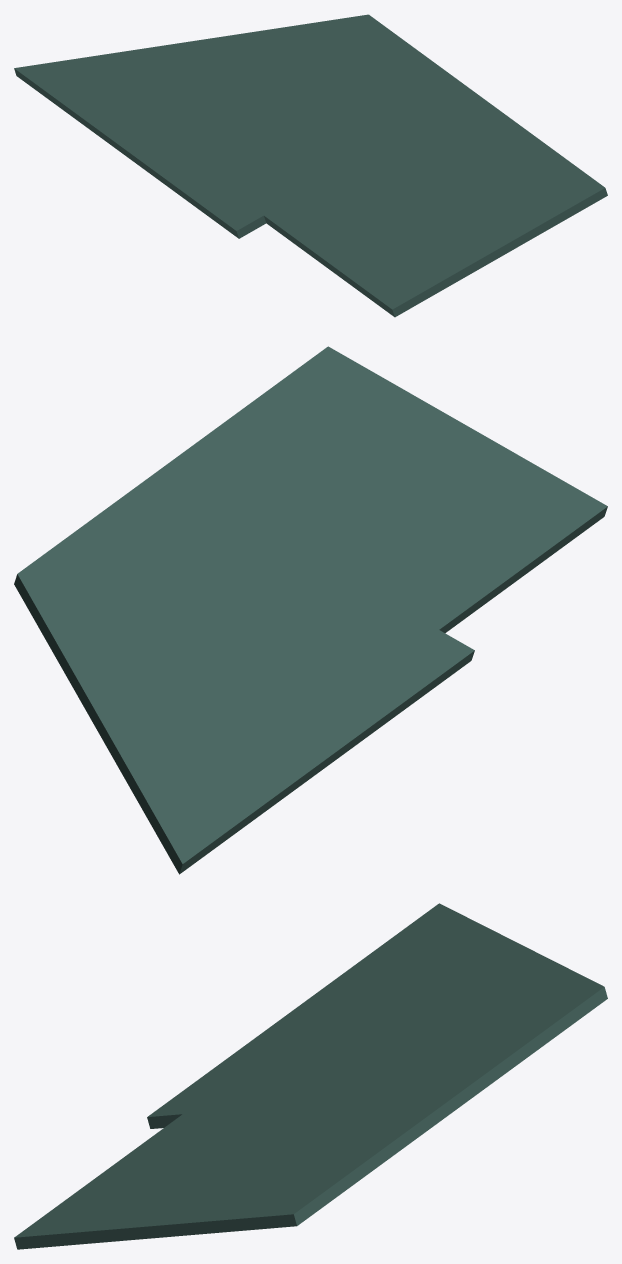
3 renders of one model, top to bottom at view 1: azimuth 30°, elevation 25°; view 2: azimuth 150°, elevation 25°; view 3: azimuth 330°, elevation 25°, orthographic. The views are drawn at different scales.
Visible parts, largest first — view 1: A-ROOF-3-2; view 2: A-ROOF-3-2; view 3: A-ROOF-3-2.
Boxes of the visible parts, x1,y1,x2,y2 form: A-ROOF-3-2: (14, 14, 607, 317); A-ROOF-3-2: (14, 346, 607, 874); A-ROOF-3-2: (14, 903, 607, 1249).
Size of the model in its own units: 3 by 1.03 by 7.51.
